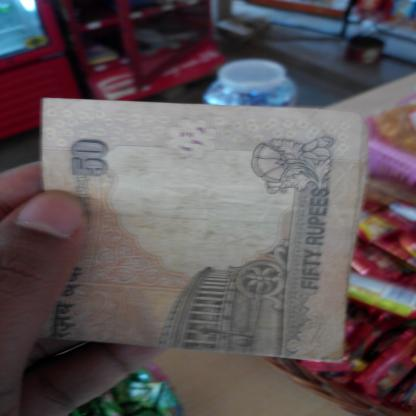Old50Back: (40, 98, 368, 363)
